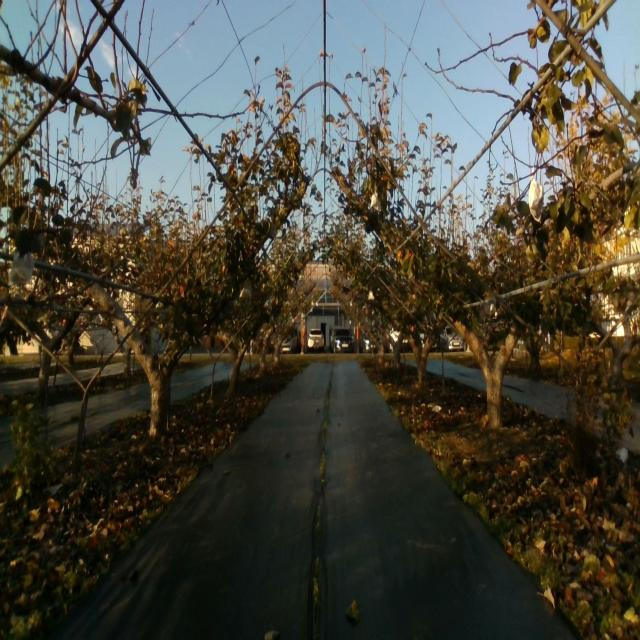pearbags: (10, 251, 34, 287), (528, 175, 544, 223), (369, 192, 382, 212)
